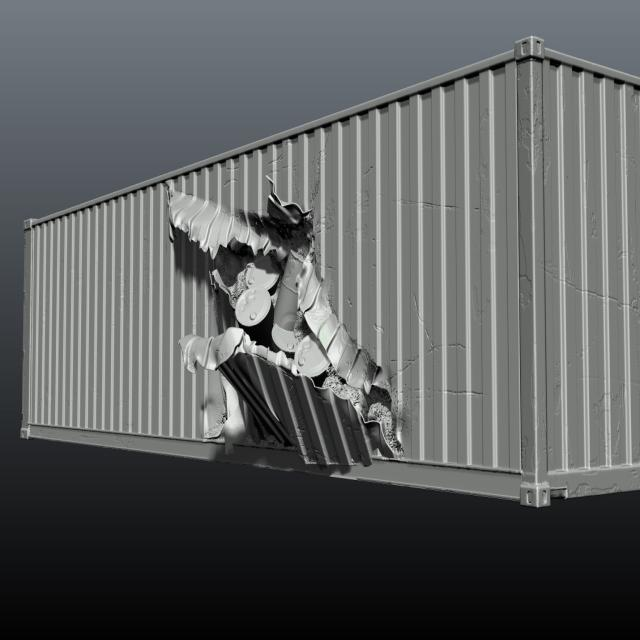hole: (158, 174, 412, 474)
